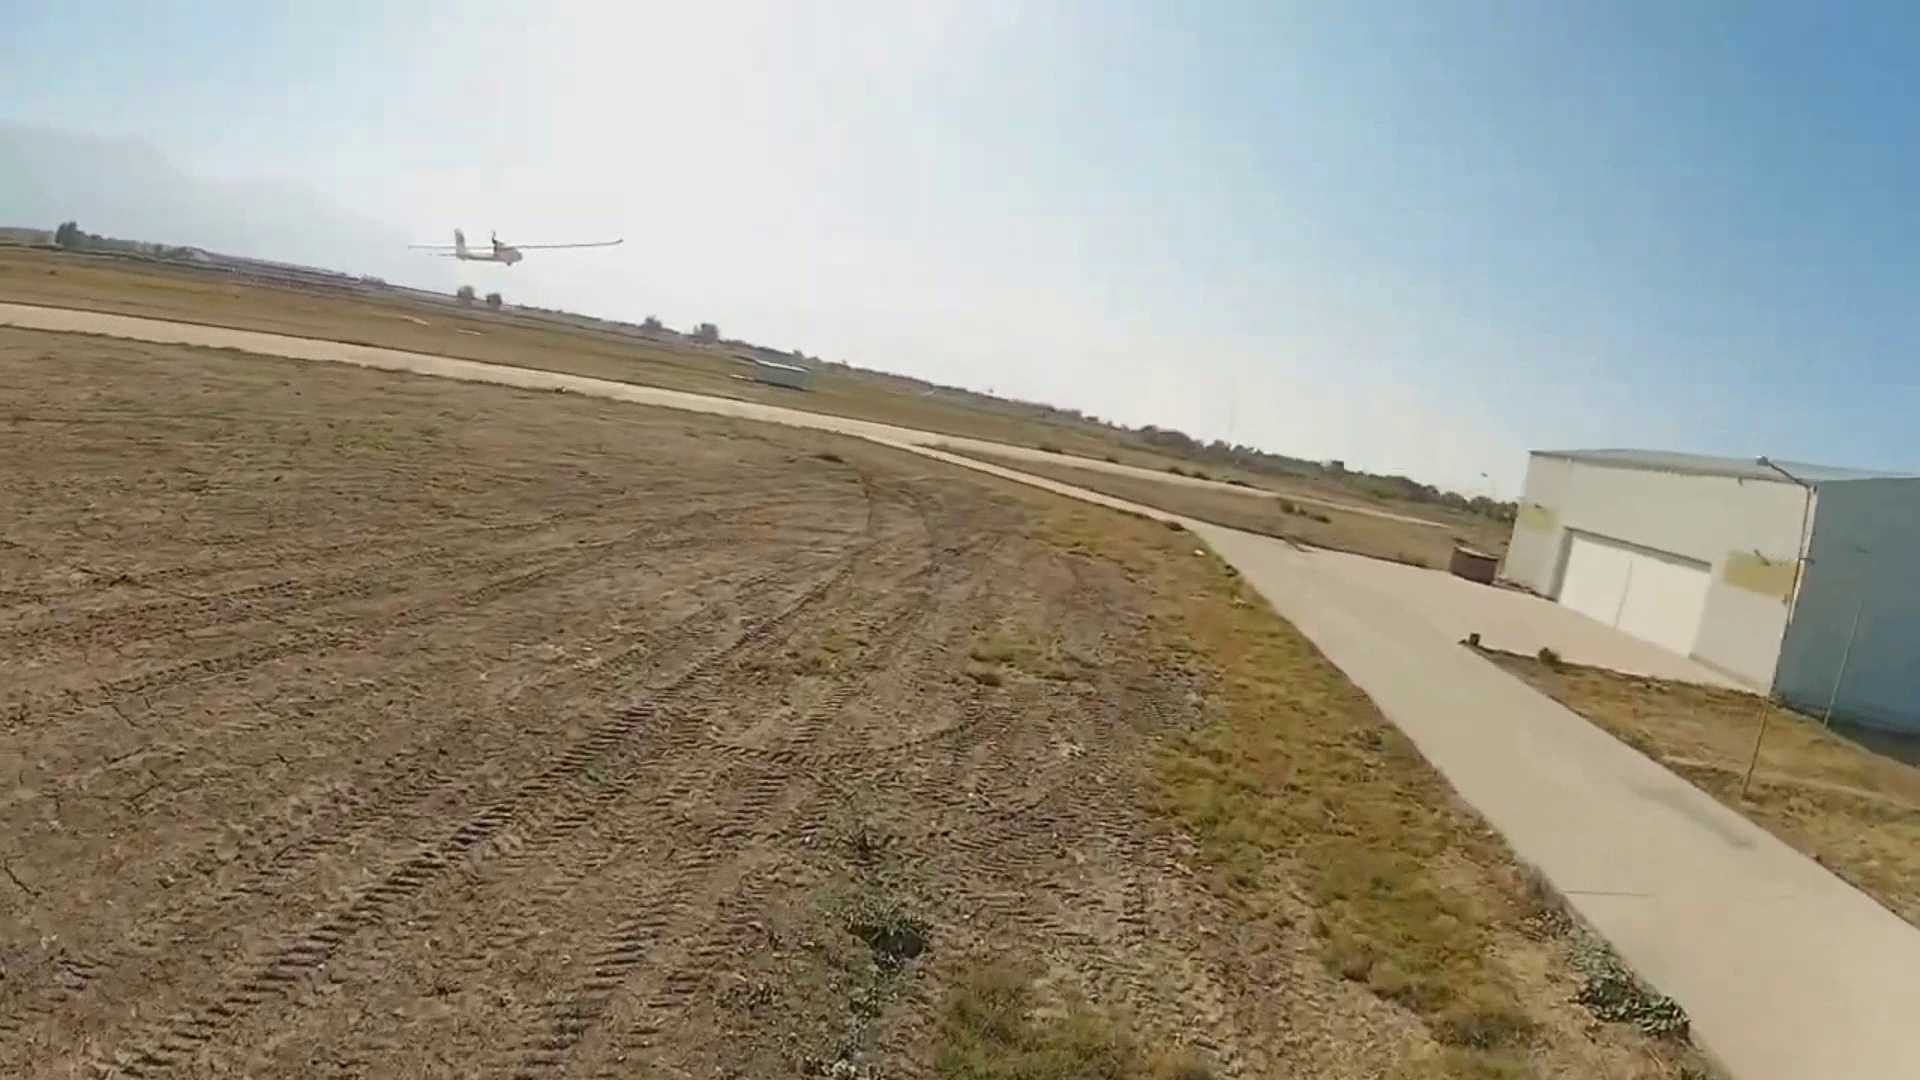airplane: (440, 218, 628, 265)
